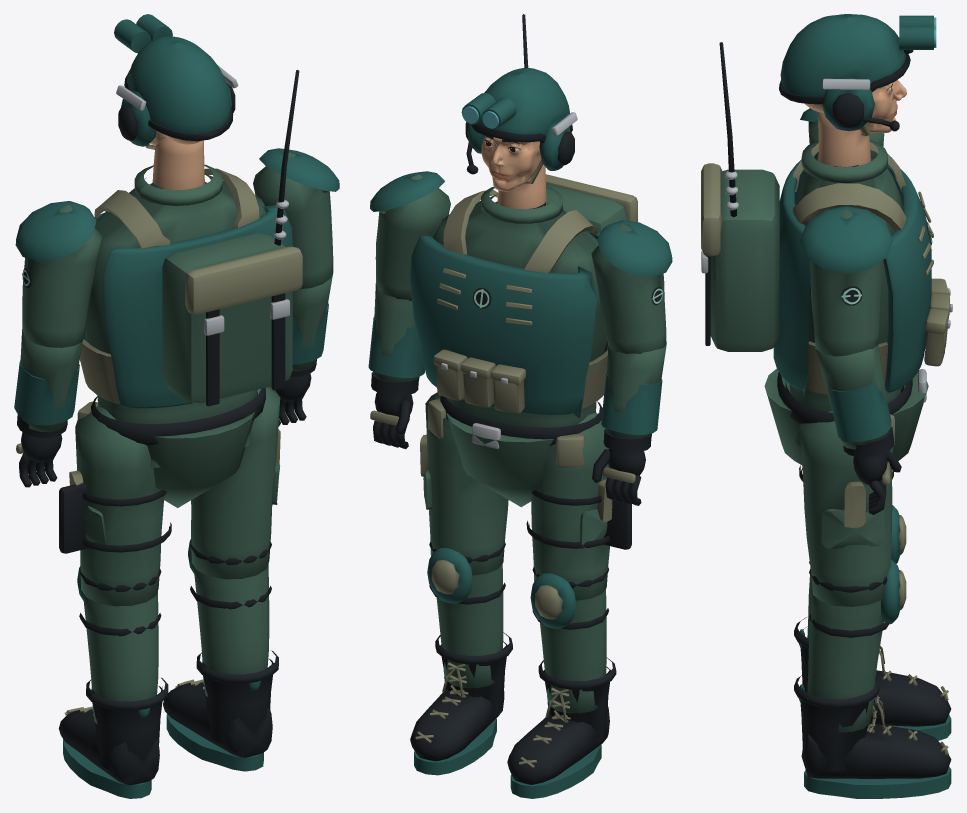
File: kf-wren.glb
3 renders of one model, left to right at view 1: azimuth 30°, elevation 25°; view 2: azimuth 150°, elevation 25°; view 3: azimuth 270°, elevation 25°, orthographic. The views are drawn at different scales.
Visible parts, largest first — view 1: Torso Woven uniform, Leg_R Woven uniform, Torso Ceramic armor, Torso Webbing, Head Ceramic armor, Knee_L Rubber and hair, Leg_L Woven uniform, Knee_R Rubber and hair, Knee_L Woven uniform, Knee_R Woven uniform, Arm_R Woven uniform, Torso Rubber and hair (+13 smaller); view 2: Torso Ceramic armor, Torso Woven uniform, Torso Webbing, Leg_R Woven uniform, Knee_R Rubber and hair, Knee_L Rubber and hair, Leg_L Woven uniform, Head Ceramic armor, Arm_R Woven uniform, Knee_L Woven uniform, Knee_R Woven uniform, Arm_L Woven uniform (+18 smaller); view 3: Torso Woven uniform, Torso Ceramic armor, Knee_L Rubber and hair, Leg_L Woven uniform, Head Ceramic armor, Torso Webbing, Knee_L Woven uniform, Arm_L Woven uniform, Arm_L Ceramic armor, Knee_R Rubber and hair, Torso Rubber and hair, Elbow_L Ceramic armor (+12 smaller).
Part boxes in pixels (box(x1,y1,x2,y2)): Torso Woven uniform: box(85, 164, 292, 507); Leg_R Woven uniform: box(75, 406, 164, 606); Torso Ceramic armor: box(83, 205, 292, 408); Torso Webbing: box(77, 168, 302, 419); Head Ceramic armor: box(114, 14, 235, 146); Knee_L Rubber and hair: box(163, 542, 278, 771); Leg_L Woven uniform: box(191, 386, 280, 579); Knee_R Rubber and hair: box(58, 569, 168, 798); Knee_L Woven uniform: box(193, 564, 269, 696); Knee_R Woven uniform: box(83, 591, 158, 724); Arm_R Woven uniform: box(22, 204, 102, 347); Torso Rubber and hair: box(91, 70, 299, 445); Torso Ceramic armor: box(410, 230, 607, 418); Torso Woven uniform: box(433, 184, 627, 507); Torso Webbing: box(428, 174, 637, 467); Leg_R Woven uniform: box(531, 412, 609, 600); Knee_R Rubber and hair: box(507, 567, 616, 798); Knee_L Rubber and hair: box(410, 541, 512, 775); Leg_L Woven uniform: box(423, 392, 508, 575); Head Ceramic armor: box(461, 68, 574, 170); Arm_R Woven uniform: box(591, 224, 666, 353); Knee_L Woven uniform: box(436, 564, 503, 688); Knee_R Woven uniform: box(540, 589, 606, 713); Arm_L Woven uniform: box(375, 174, 450, 300); Torso Woven uniform: box(710, 140, 928, 464); Torso Ceramic armor: box(773, 156, 931, 397); Knee_L Rubber and hair: box(794, 569, 951, 798); Leg_L Woven uniform: box(799, 411, 892, 606); Head Ceramic armor: box(780, 14, 936, 131); Torso Webbing: box(701, 142, 949, 448); Knee_L Woven uniform: box(807, 592, 883, 732); Arm_L Woven uniform: box(809, 209, 883, 356); Arm_L Ceramic armor: box(800, 206, 892, 273); Knee_R Rubber and hair: box(794, 561, 951, 740); Torso Rubber and hair: box(705, 42, 932, 423); Elbow_L Ceramic armor: box(830, 382, 891, 442).
Size of the model in its own units: 0.8471 by 1.9 by 0.5833.
